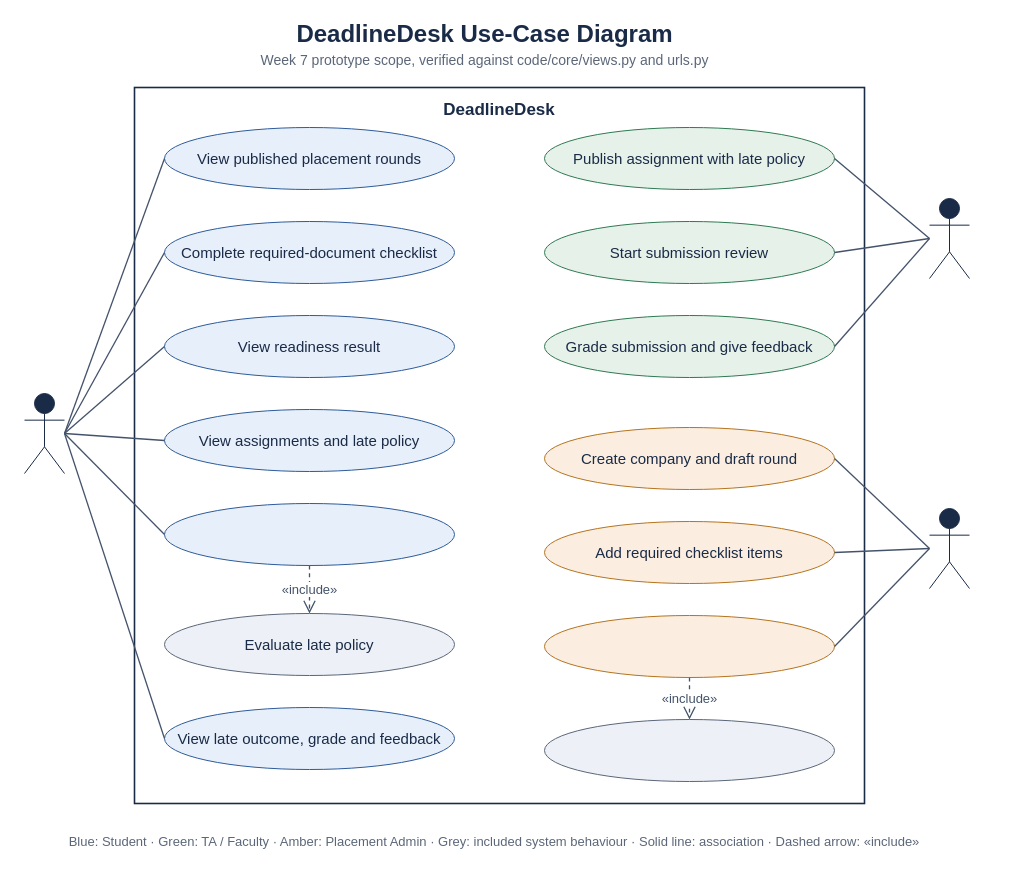
This 1029x878 diagram has some shape labels left out. Each missing label, with the box of its shape:
Log T-24h reminder: (544, 718, 834, 782)
Placement Admin: (928, 508, 970, 588)
Publish placement round: (544, 614, 834, 678)
Student: (24, 392, 64, 474)
TA / Faculty: (928, 198, 970, 278)
Upload submission file: (164, 502, 454, 566)
